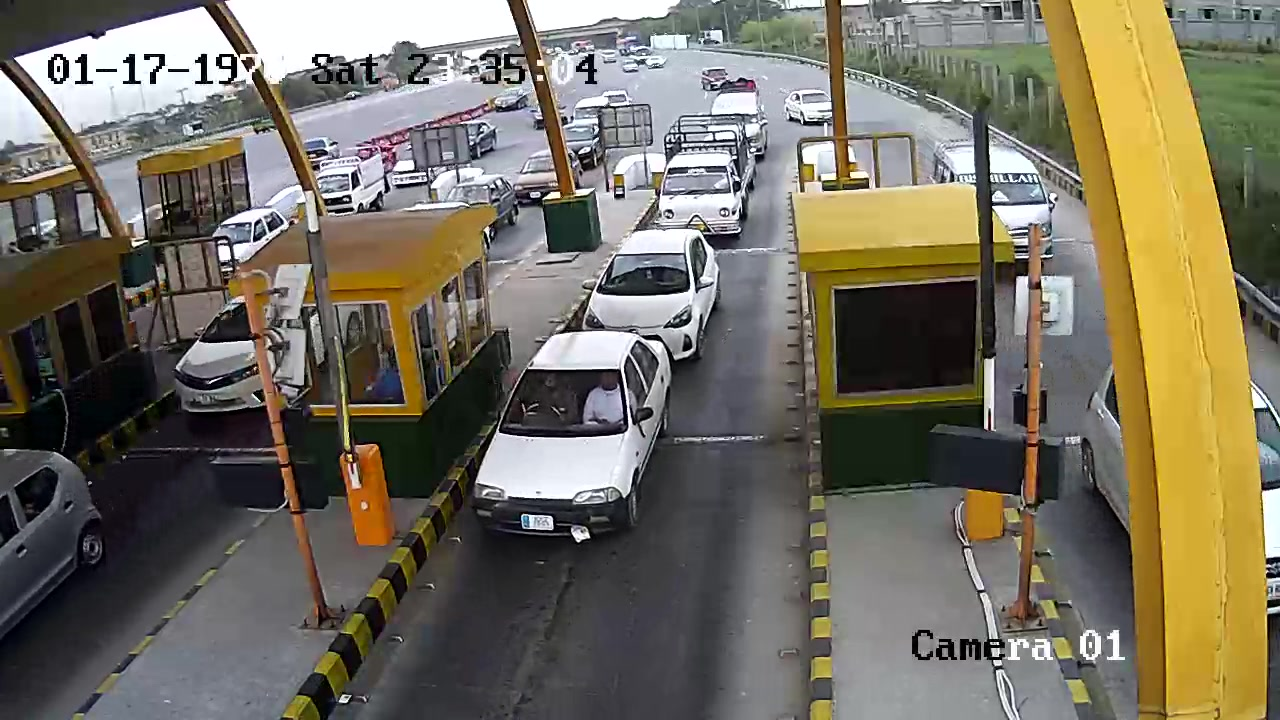F1: (477, 330, 674, 570), (586, 229, 721, 360)
